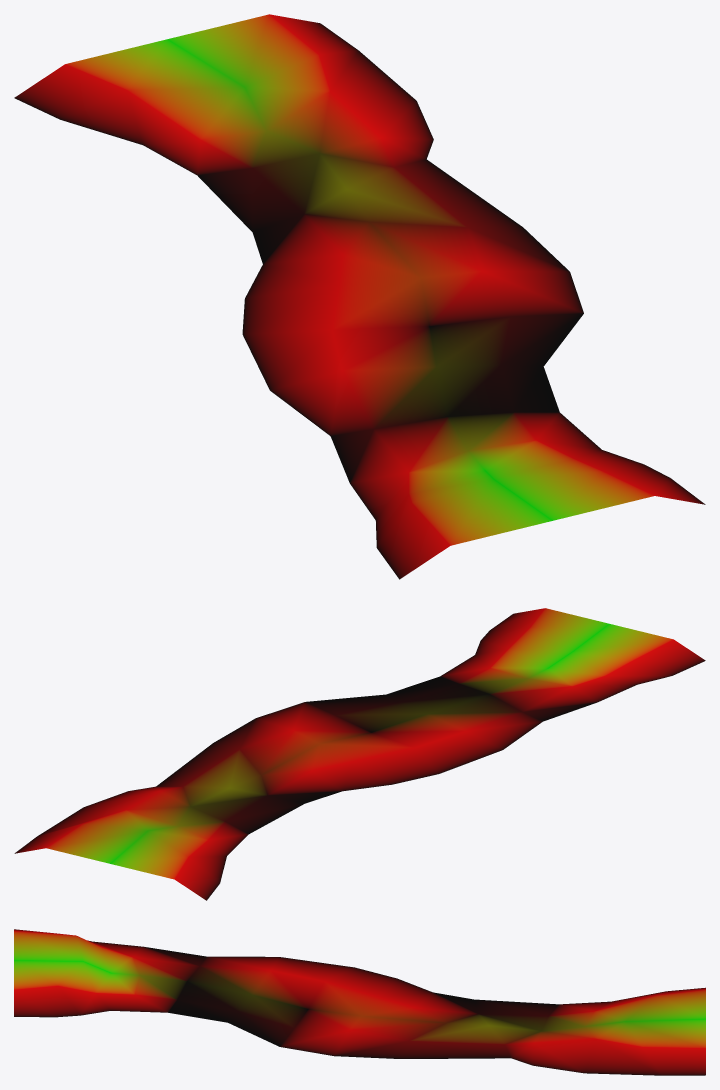
Rendered from Section_WayLine06_Swamp_Terrain.fbx.
3 views of the same model, one above another, from view 1: azimuth 30°, elevation 25°; view 2: azimuth 150°, elevation 25°; view 3: azimuth 270°, elevation 25° (orthographic). The views are drawn at different scales.
Visible parts, largest first — view 1: Section_WayLine06_Swamp_Terrain; view 2: Section_WayLine06_Swamp_Terrain; view 3: Section_WayLine06_Swamp_Terrain.
Boxes of the visible parts, x1,y1,x2,y2 form: Section_WayLine06_Swamp_Terrain: (14,14,705,579); Section_WayLine06_Swamp_Terrain: (14,608,705,900); Section_WayLine06_Swamp_Terrain: (14,929,705,1075).
Bounding box in the file's own units: 2504 × 100 × 5000.
